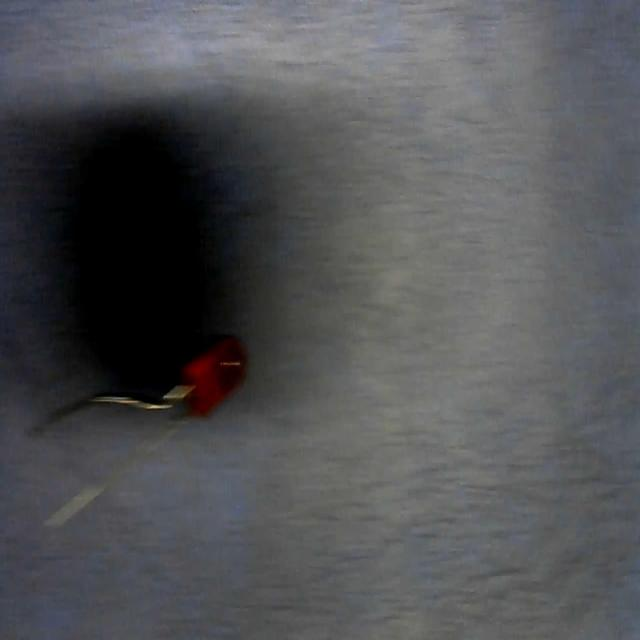LED: (44, 346, 248, 525)
